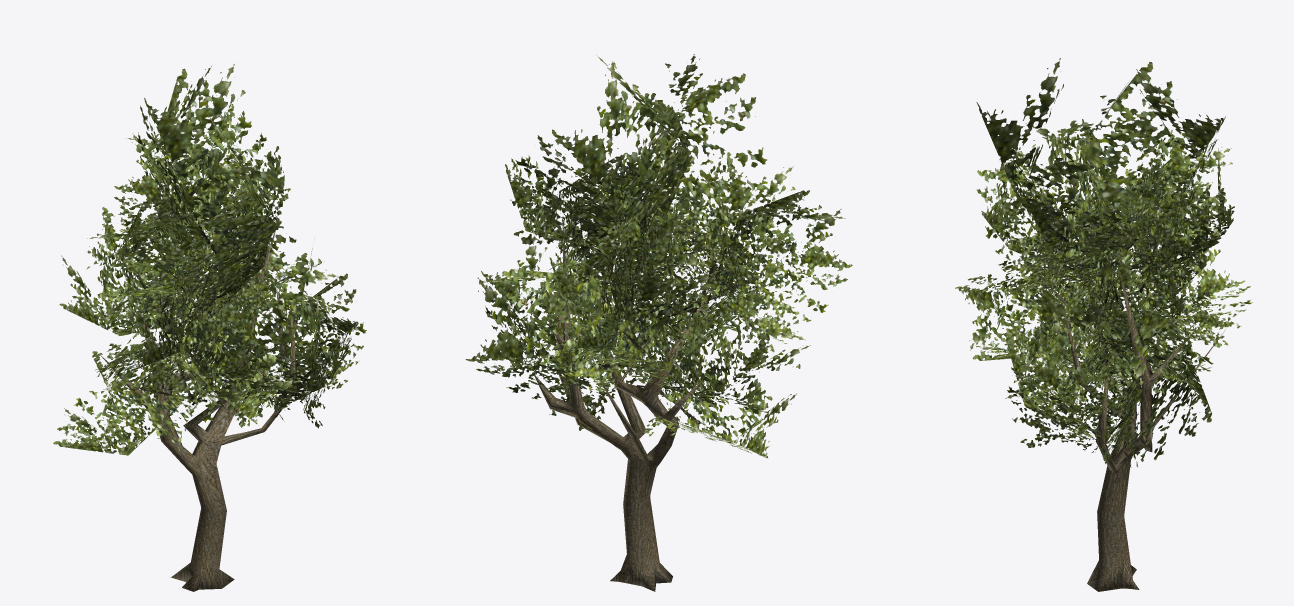
The model's file is arbol.glb.
3 views of the same model, side by side, from view 1: azimuth 30°, elevation 25°; view 2: azimuth 150°, elevation 25°; view 3: azimuth 270°, elevation 25° (orthographic). The views are drawn at different scales.
Visible parts, largest first — view 1: Branches-material.018, BarkDecidious-material.018; view 2: Branches-material.018, BarkDecidious-material.018; view 3: Branches-material.018, BarkDecidious-material.018.
Part boxes in pixels (bbox=[...]): Branches-material.018: bbox=[53, 63, 366, 455]; BarkDecidious-material.018: bbox=[100, 231, 297, 591]; Branches-material.018: bbox=[465, 54, 852, 458]; BarkDecidious-material.018: bbox=[534, 221, 706, 591]; Branches-material.018: bbox=[955, 58, 1252, 467]; BarkDecidious-material.018: bbox=[1030, 262, 1225, 591].
Size of the model in its own units: 7.65 by 11.07 by 6.59.
Materials: 2 (2 with a texture image).
